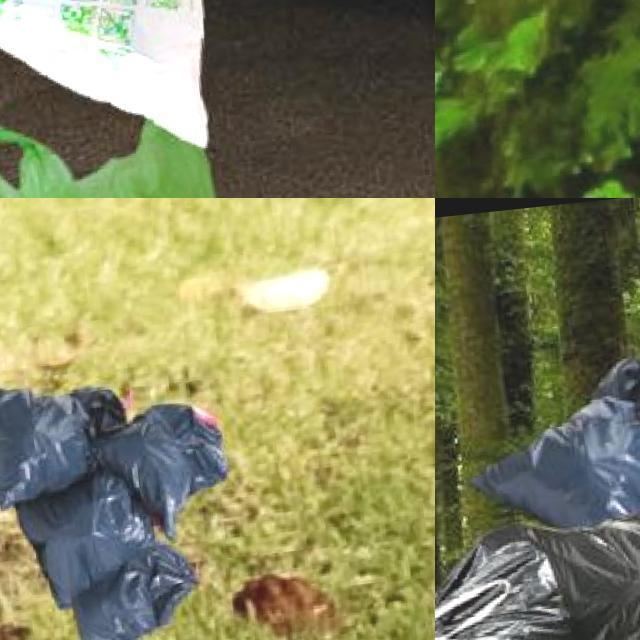waste: (0, 0, 258, 166), (435, 488, 640, 640), (467, 389, 640, 534), (0, 99, 247, 198), (108, 406, 236, 540), (10, 478, 160, 584), (0, 361, 124, 487), (66, 548, 219, 640)
